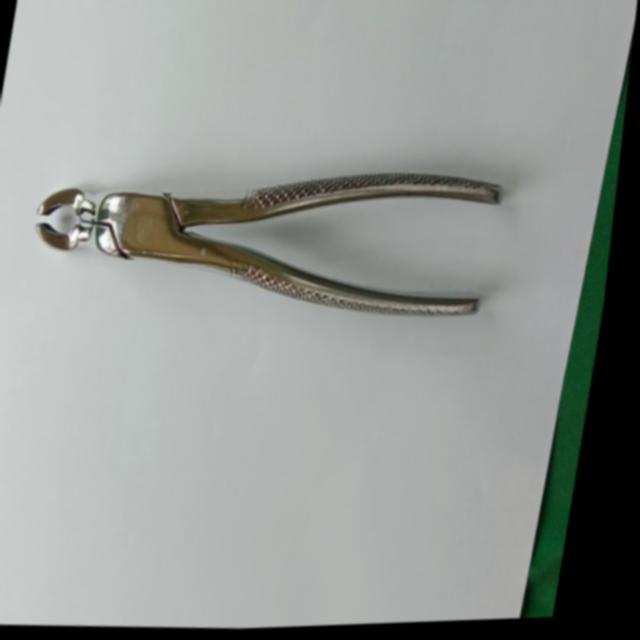BayonetForcep: (22, 137, 519, 347)
